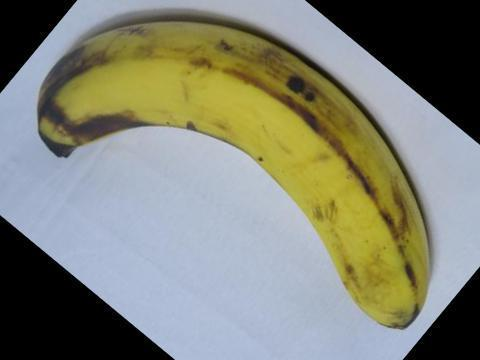ripe: (28, 9, 437, 339)
